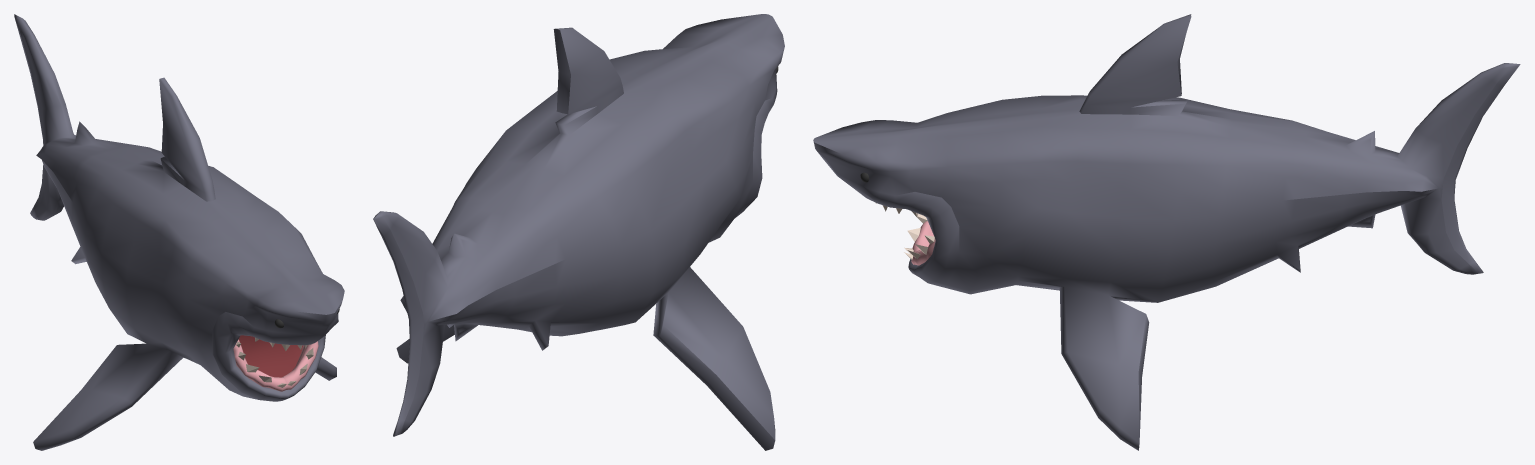
File: Shark.fbx
3 views of the same model, side by side, from view 1: azimuth 30°, elevation 25°; view 2: azimuth 150°, elevation 25°; view 3: azimuth 270°, elevation 25° (orthographic). The views are drawn at different scales.
Parts seen in each view (by area): view 1: Cube; view 2: Cube; view 3: Cube.
Boxes of the visible parts, <box> form: Cube: <box>14,14,344,450</box>; Cube: <box>373,14,784,450</box>; Cube: <box>813,14,1520,450</box>.
Bounding box in the file's own units: 402 × 406 × 727.
